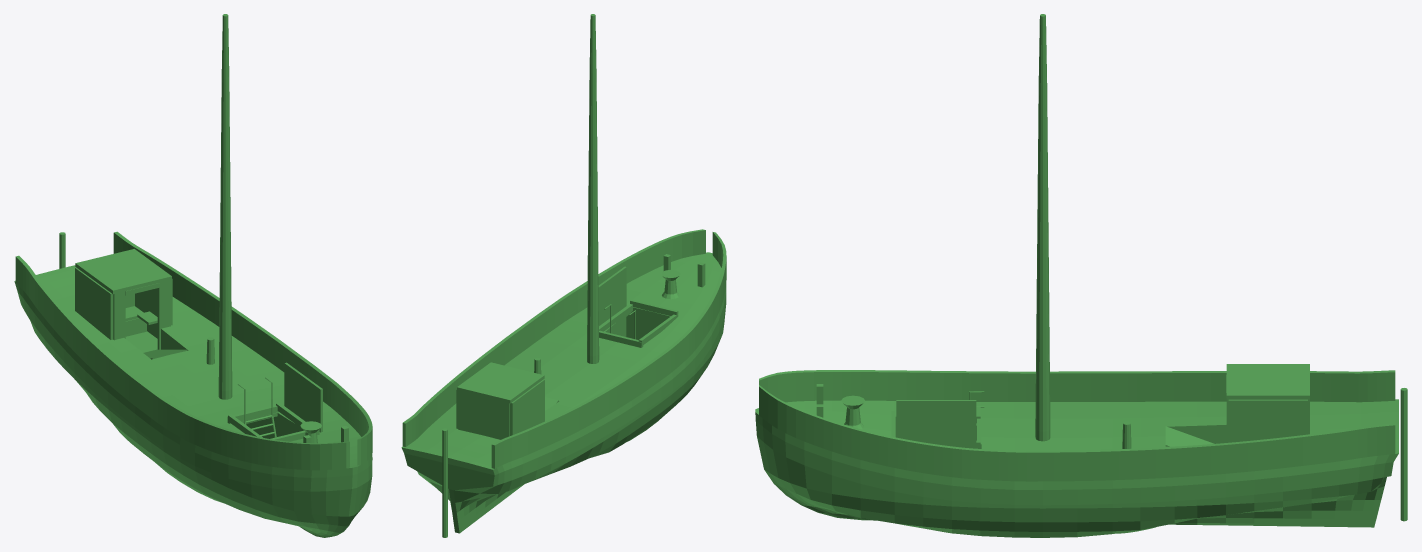
The picture shows the model from 3 angles, left to right: view 1: azimuth 30°, elevation 25°; view 2: azimuth 150°, elevation 25°; view 3: azimuth 270°, elevation 25°; orthographic projection. The views are drawn at different scales.
Visible parts, largest first — view 1: col_hull, col_merchant_bulwark_1, col_merchant_bulwark_3, col_main_mast_timber_1, col_cabin_roof_1, col_cabin_side_1, col_cargo_hatch_lid_open_1, col_cabin_front_jamb_3, col_cabin_side_3, col_cabin_front_jamb_1, col_cabin_sole_1; view 2: col_hull, col_merchant_bulwark_1, col_merchant_bulwark_3, col_main_mast_timber_1, col_cabin_roof_1, col_cabin_rear_1, col_cabin_side_1, col_cargo_hatch_lid_open_1, col_rudder_stock_1, col_capstan_1; view 3: col_hull, col_merchant_bulwark_3, col_merchant_bulwark_1, col_main_mast_timber_1, col_cargo_hatch_lid_open_1, col_cabin_side_3, col_cabin_roof_1, col_rudder_stock_1.
Boxes of the visible parts, <box> form: col_hull: <box>14,265,372,537</box>; col_merchant_bulwark_1: <box>15,255,349,470</box>; col_merchant_bulwark_3: <box>113,231,372,465</box>; col_main_mast_timber_1: <box>218,14,232,399</box>; col_cabin_roof_1: <box>75,249,171,294</box>; col_cabin_side_1: <box>75,267,113,339</box>; col_cargo_hatch_lid_open_1: <box>284,362,322,432</box>; col_cabin_front_jamb_3: <box>157,280,170,349</box>; col_cabin_side_3: <box>135,279,172,338</box>; col_cabin_front_jamb_1: <box>113,291,125,340</box>; col_cabin_sole_1: <box>125,331,157,352</box>; col_hull: <box>401,252,726,533</box>; col_merchant_bulwark_1: <box>491,232,726,468</box>; col_merchant_bulwark_3: <box>402,229,705,446</box>; col_main_mast_timber_1: <box>587,14,599,363</box>; col_cabin_roof_1: <box>457,362,544,403</box>; col_cabin_rear_1: <box>458,391,509,439</box>; col_cabin_side_1: <box>510,379,544,435</box>; col_cargo_hatch_lid_open_1: <box>598,266,626,325</box>; col_rudder_stock_1: <box>442,428,447,537</box>; col_capstan_1: <box>661,270,680,299</box>; col_hull: <box>755,399,1398,537</box>; col_merchant_bulwark_3: <box>759,385,1395,481</box>; col_merchant_bulwark_1: <box>759,370,1395,402</box>; col_main_mast_timber_1: <box>1035,14,1050,441</box>; col_cargo_hatch_lid_open_1: <box>896,400,976,448</box>; col_cabin_side_3: <box>1228,399,1307,442</box>; col_cabin_roof_1: <box>1226,364,1309,399</box>; col_rudder_stock_1: <box>1400,388,1407,521</box>.
Size of the model in its own units: 5.22 by 15.24 by 17.64.
